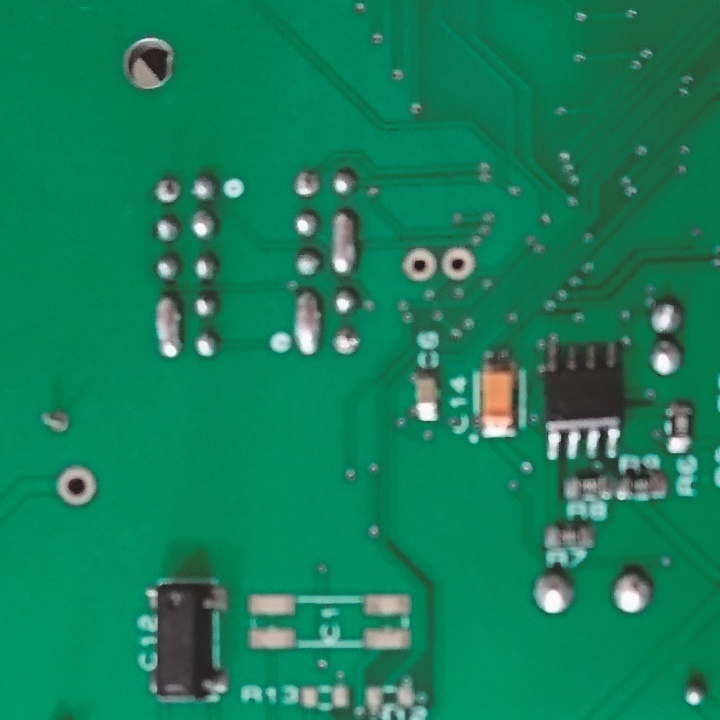F: (53, 463, 101, 511), (439, 246, 476, 283), (401, 246, 437, 283), (37, 406, 73, 438), (291, 168, 323, 199), (153, 175, 184, 206), (331, 323, 359, 357)
P: (155, 294, 180, 356), (331, 212, 353, 273), (295, 289, 316, 352)
